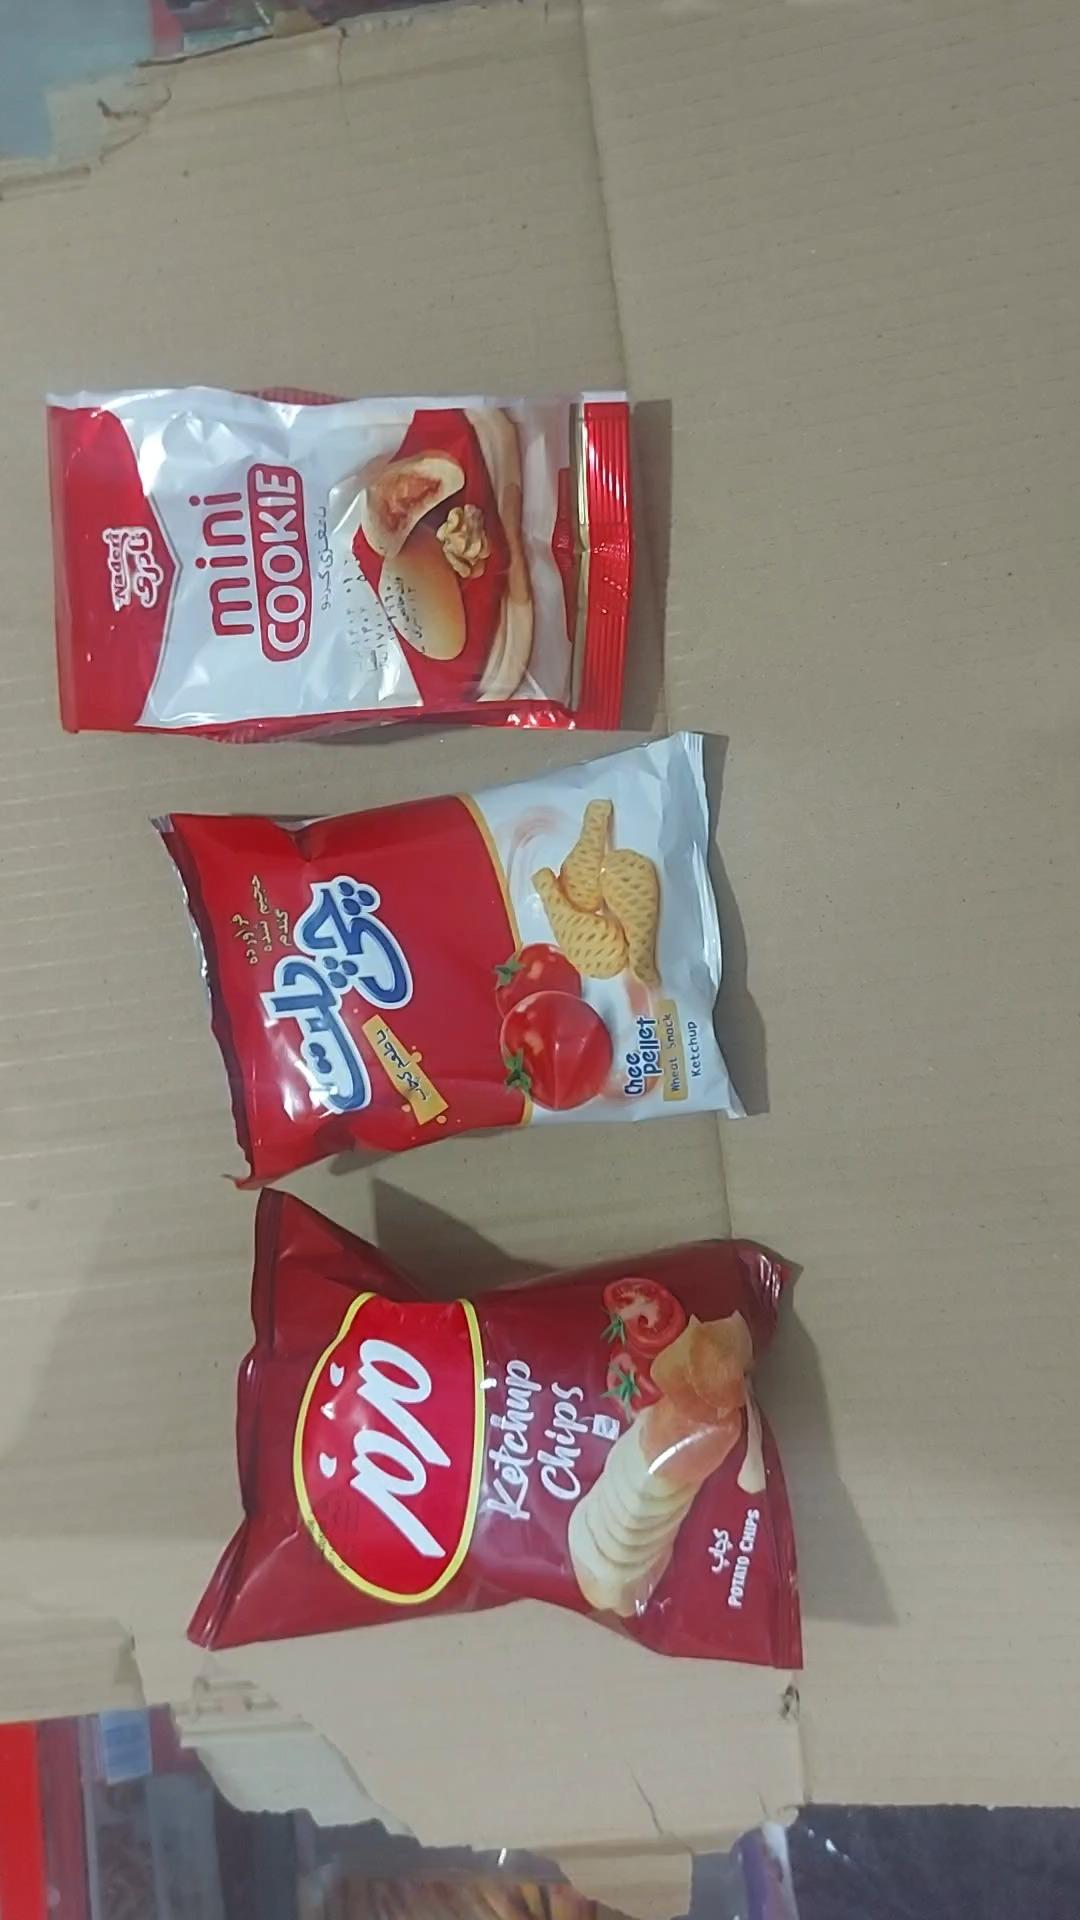Chee pellet ketchup: (152, 733, 753, 1191)
Maz Maz ketchup chips: (186, 1189, 804, 1672)
Naderi mini cookie: (45, 386, 640, 746)
